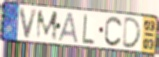A: (57, 11, 80, 44)
C: (103, 15, 123, 48)
D: (121, 17, 143, 50)
L: (81, 13, 95, 46)
M: (35, 10, 59, 42)
V: (18, 7, 40, 40)
